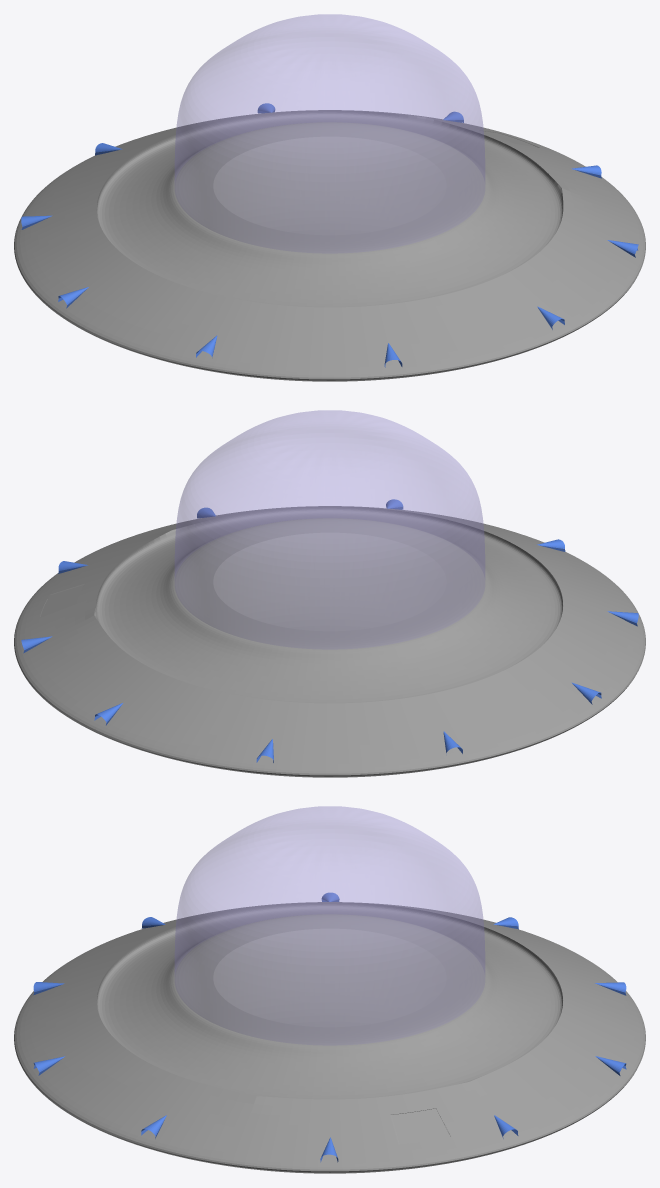
The model's file is ufo.glb.
3 views of the same model, one above another, from view 1: azimuth 30°, elevation 25°; view 2: azimuth 150°, elevation 25°; view 3: azimuth 270°, elevation 25° (orthographic).
Visible parts, largest first — view 1: Spaceship Hull, Spaceship Glass, Spaceship Accessories; view 2: Spaceship Hull, Spaceship Glass, Spaceship Accessories; view 3: Spaceship Hull, Spaceship Glass, Spaceship Accessories.
Part boxes in pixels (x1,y1,x2,y2): Spaceship Hull: (14, 110, 645, 381); Spaceship Glass: (175, 14, 484, 253); Spaceship Accessories: (21, 103, 638, 367); Spaceship Hull: (14, 506, 645, 777); Spaceship Glass: (175, 410, 484, 649); Spaceship Accessories: (21, 499, 638, 762); Spaceship Hull: (14, 902, 645, 1173); Spaceship Glass: (175, 806, 484, 1045); Spaceship Accessories: (33, 892, 626, 1162).
Bounding box in the file's own units: 4.7 × 2.14 × 4.7.
